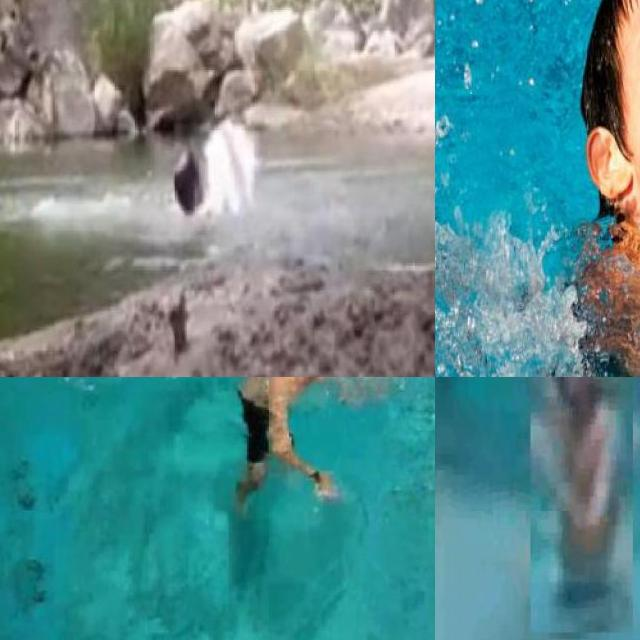drowning: (435, 0, 640, 377), (111, 49, 284, 258)
swimming: (529, 377, 633, 634), (230, 377, 382, 548)
